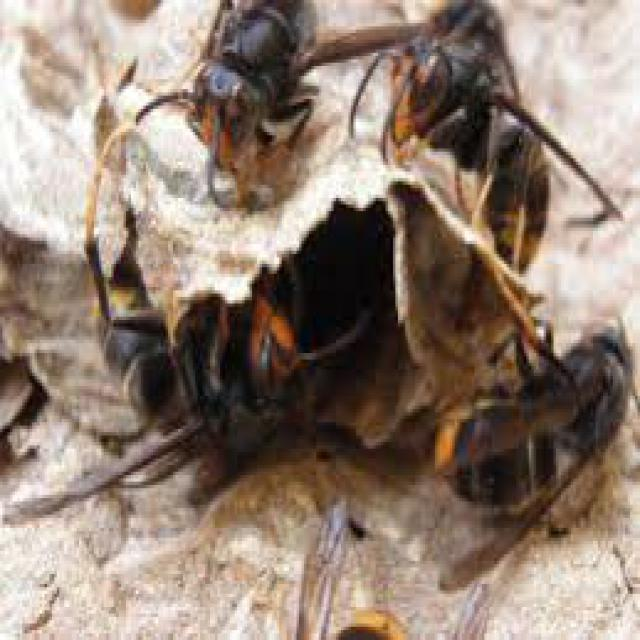Vespa Velutina: (305, 0, 628, 287), (410, 304, 638, 604)
